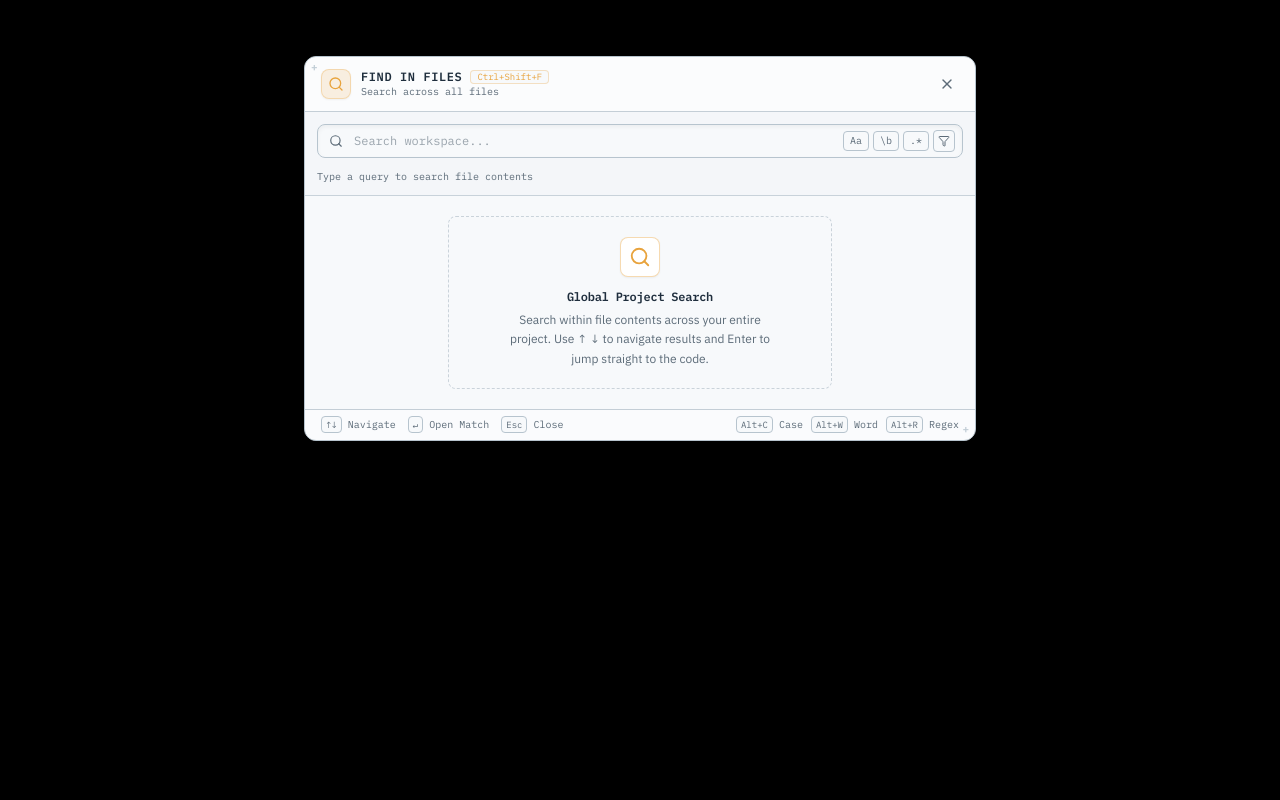
Scenario: ProjectSearchModal › toggles case-sensitive and whole-word modes
Type "hello" into the field with placeholder "Search workspace..." at (640, 141), box [317,124,963,158]
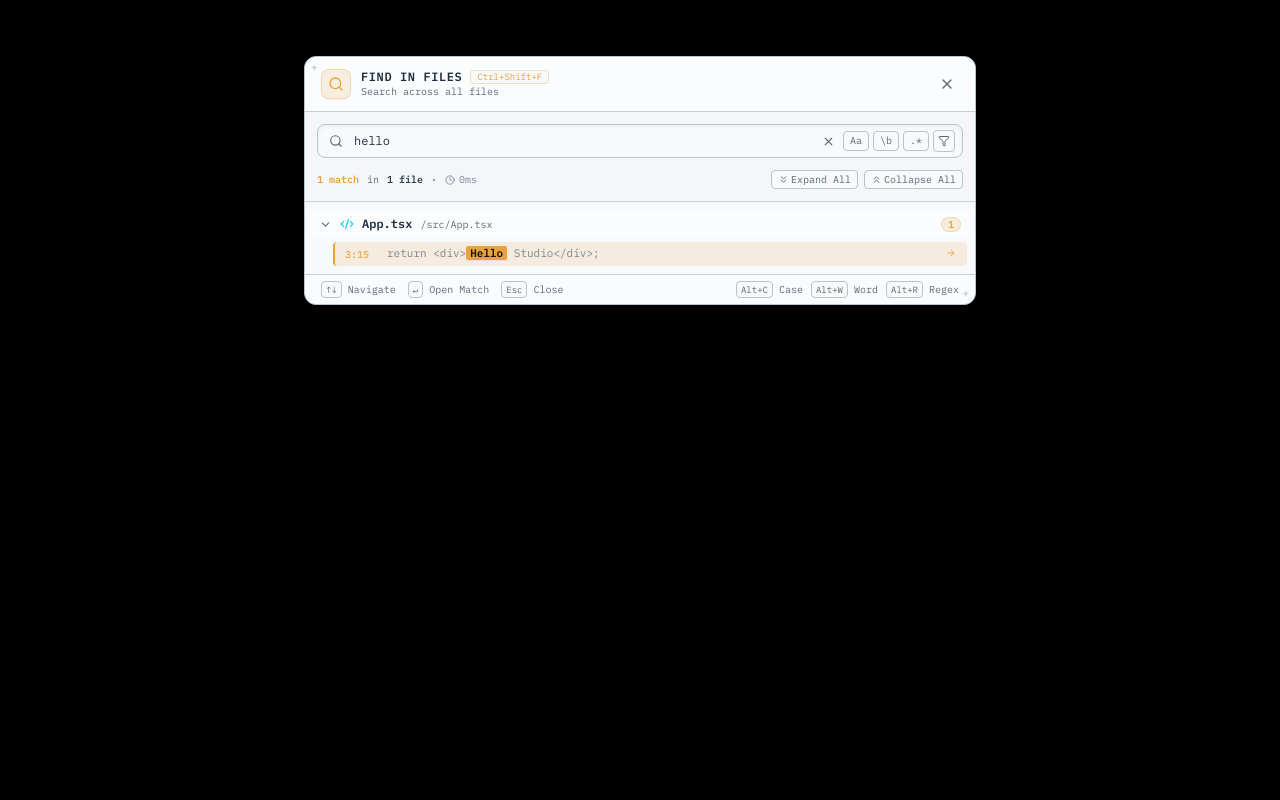
Check: the text "1 match" is shown, box [317,173,359,186]
Toggle Case Sensitive (Alt+C)
Click the button titled "Match Case" at (856, 141), box [843,131,869,151]
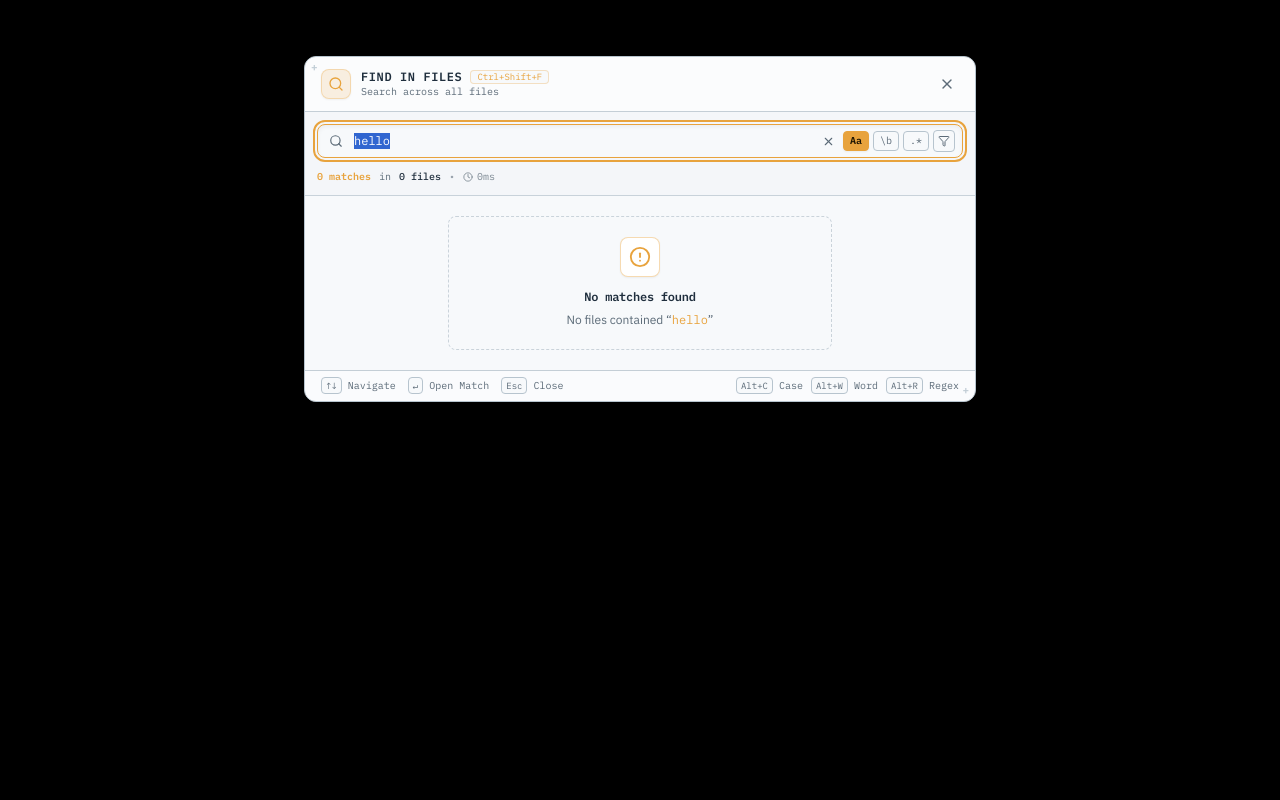
Check: the heading "No matches found" is shown, box [584,289,696,306]
